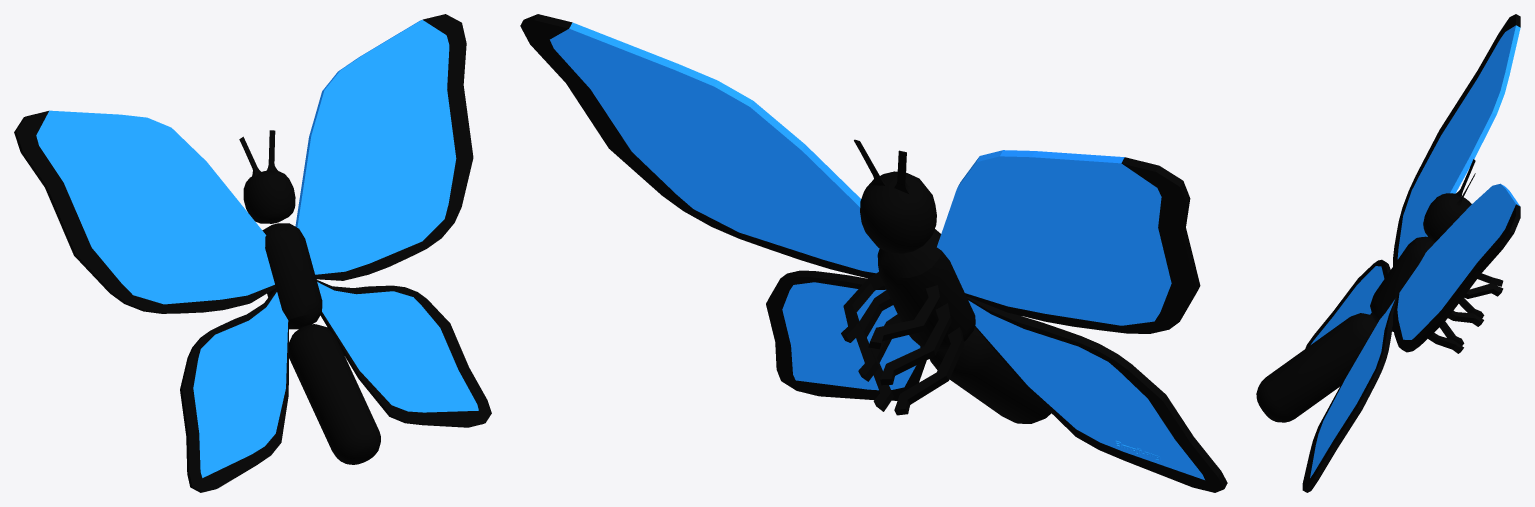
File: butterfly.gltf
3 renders of one model, left to right at view 1: azimuth 30°, elevation 25°; view 2: azimuth 150°, elevation 25°; view 3: azimuth 270°, elevation 25°, orthographic. The views are drawn at different scales.
Visible parts, largest first — view 1: Cylinder.375; view 2: Cylinder.375; view 3: Cylinder.375.
Part boxes in pixels (left/top/right/bottom): Cylinder.375: left=14, top=14, right=491, bottom=492; Cylinder.375: left=520, top=14, right=1227, bottom=492; Cylinder.375: left=1256, top=14, right=1520, bottom=492.
Bounding box in the file's own units: 2.38 × 1.61 × 1.24.
Materials: 1 (1 with a texture image).
